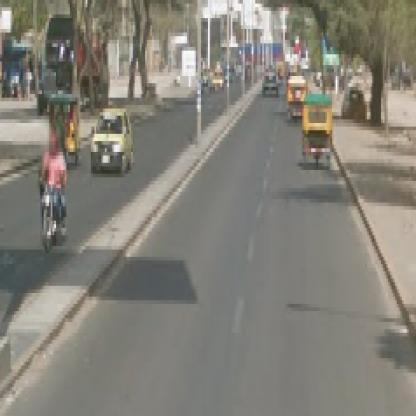Moto: (41, 131, 66, 254)
Pista: (3, 81, 415, 416), (3, 77, 263, 341)
Vehiculo: (302, 91, 335, 171), (94, 113, 134, 178), (50, 95, 80, 171), (288, 73, 309, 124), (263, 70, 277, 99), (212, 66, 225, 95)
